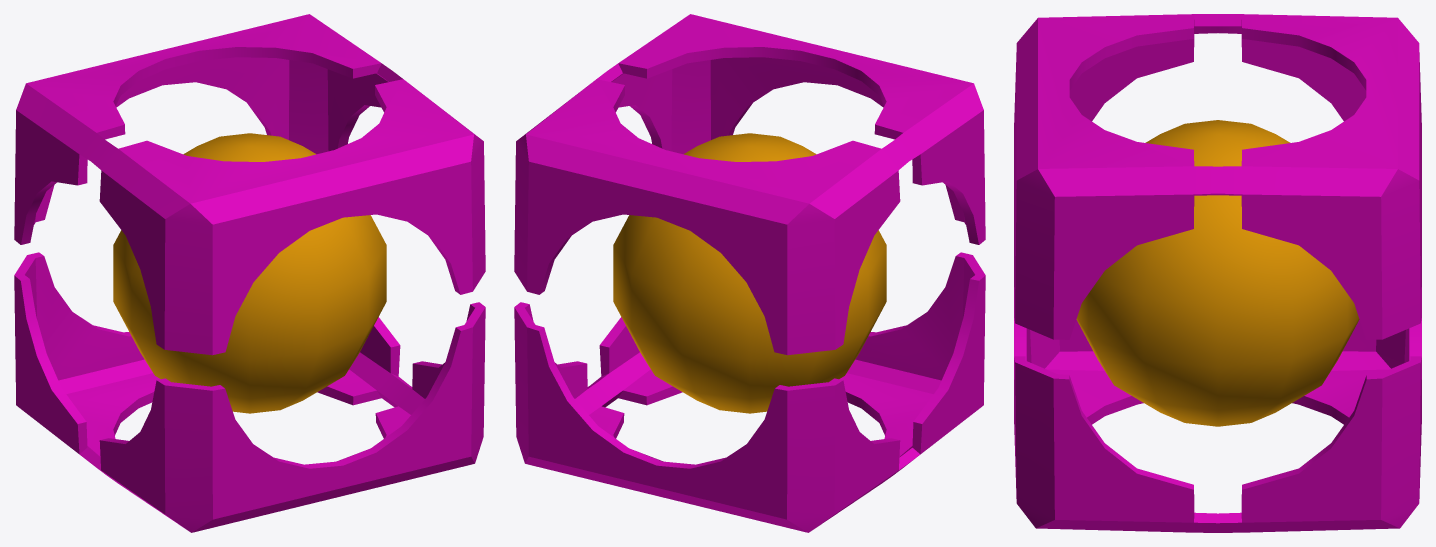
The model's file is куб.fbx.
3 views of the same model, side by side, from view 1: azimuth 30°, elevation 25°; view 2: azimuth 150°, elevation 25°; view 3: azimuth 270°, elevation 25° (orthographic). The views are drawn at different scales.
Parts seen in each view (by area): view 1: КУБ; view 2: КУБ; view 3: КУБ.
Boxes of the visible parts, left/top/right/bottom form: КУБ: left=14, top=14, right=485, bottom=532; КУБ: left=514, top=14, right=985, bottom=532; КУБ: left=1014, top=14, right=1421, bottom=532.
Bounding box in the file's own units: 213 × 213 × 213.
